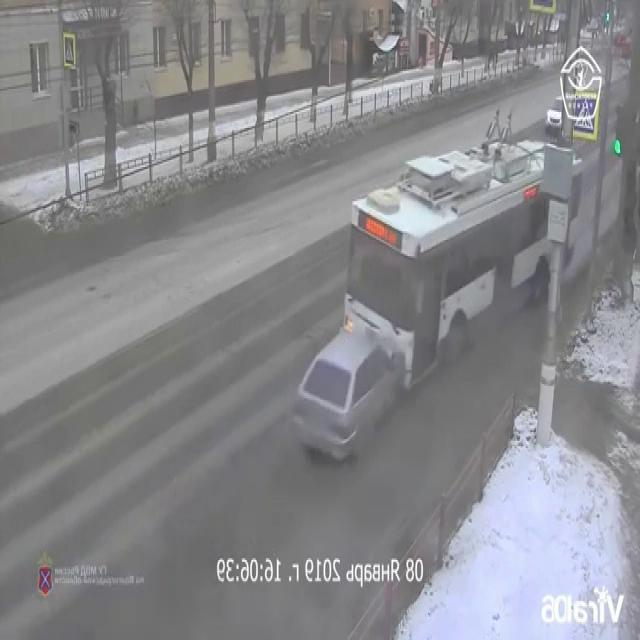multiple_accident: (272, 175, 456, 498), (311, 266, 424, 427)
